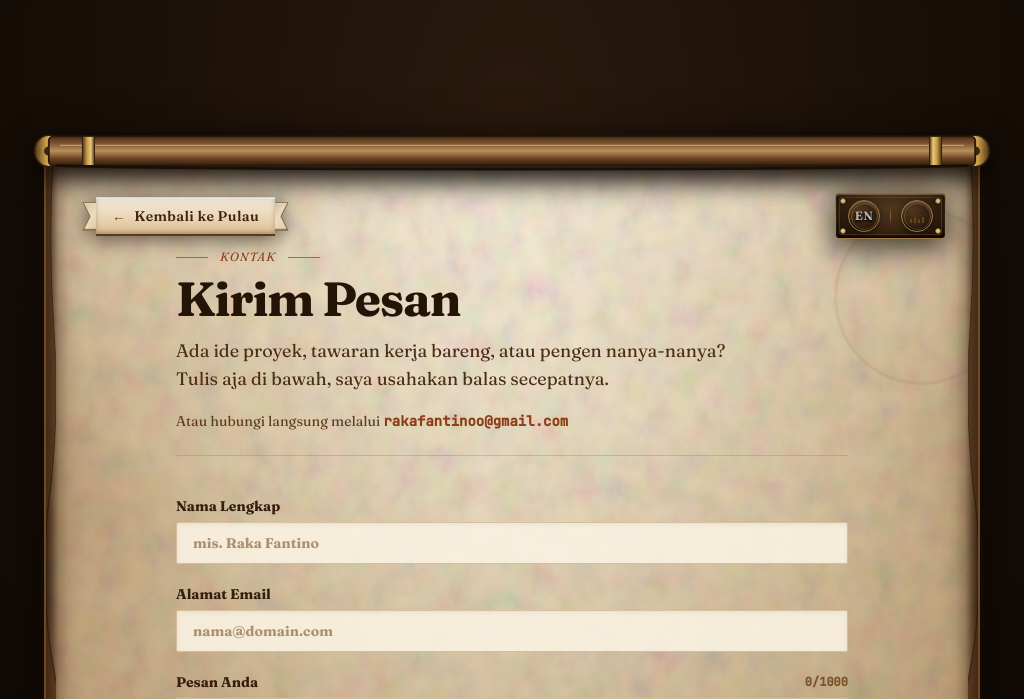
Test: Contact Page - Warm Editorial Dispatch Form › submits safely in mock mode when keys are missing and displays delivered message
The width and height of the screenshot is (1024, 699).
Type "Raka Tester" into the field labelled "Nama Lengkap".
click(512, 543); type("Raka Tester")  # box [176,522,848,564]
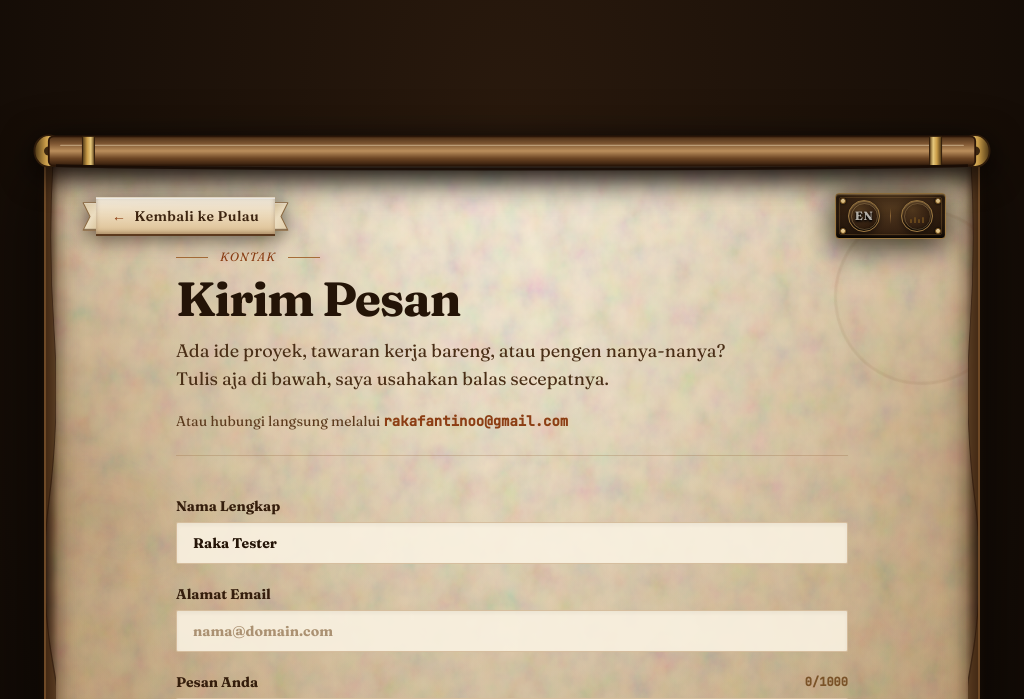
Type "raka@example.com" into the field labelled "Alamat Email".
click(512, 631); type("raka@example.com")  # box [176,610,848,652]
(page scrolled)
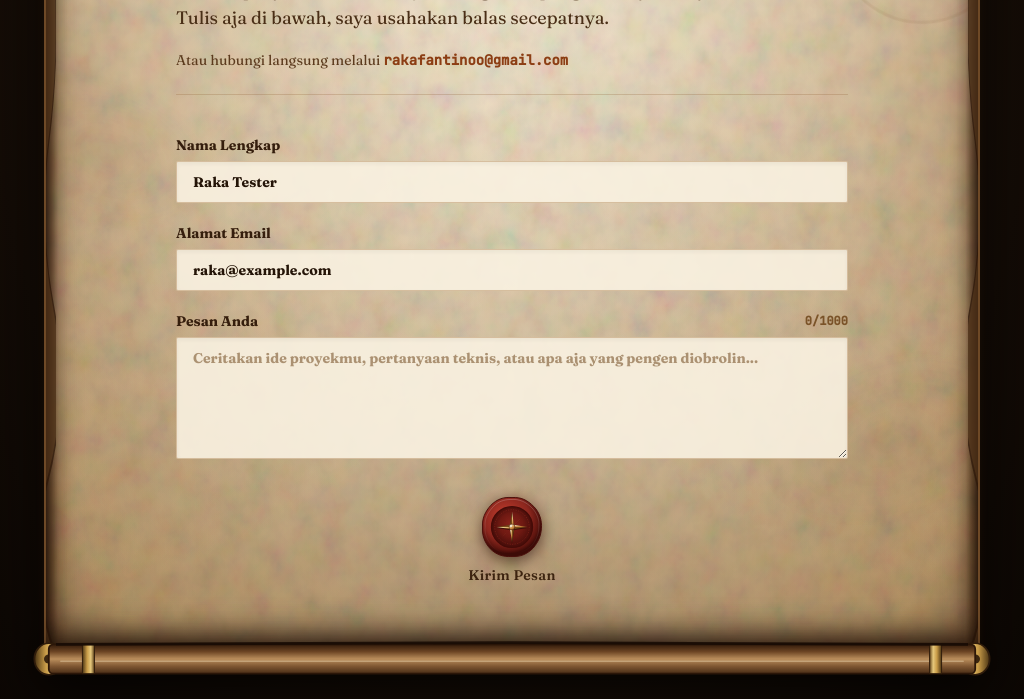
Replace the text in the text box labelled "Pesan Anda 0/1000" with "Valid message content" at {"x": 512, "y": 398}, box [176,337,848,459]
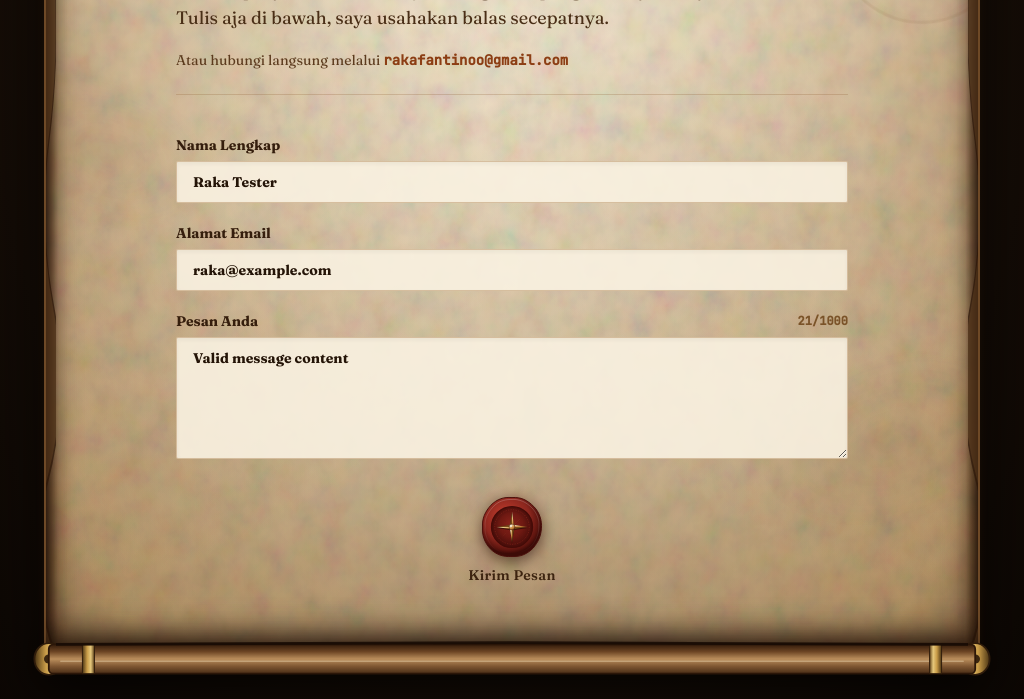
Click the button "Kirim Pesan".
click(512, 540)  # box [468,495,556,585]
(page scrolled)
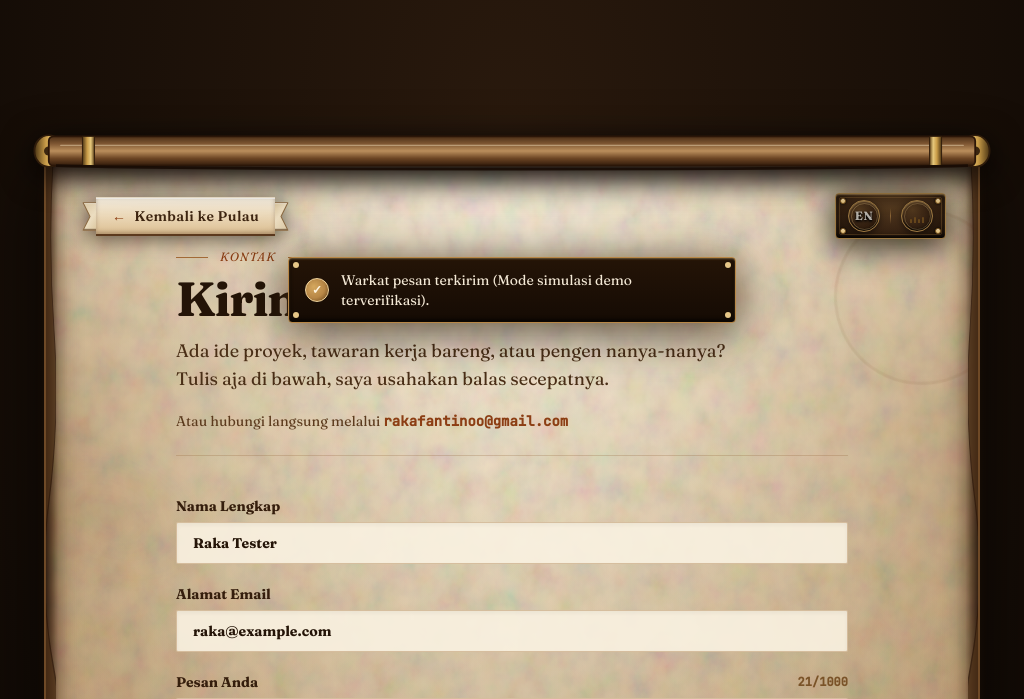
expect the text "Warkat pesan terkirim (Mode simulasi demo terverifikasi)." is shown: met, box [341,271,632,309]
